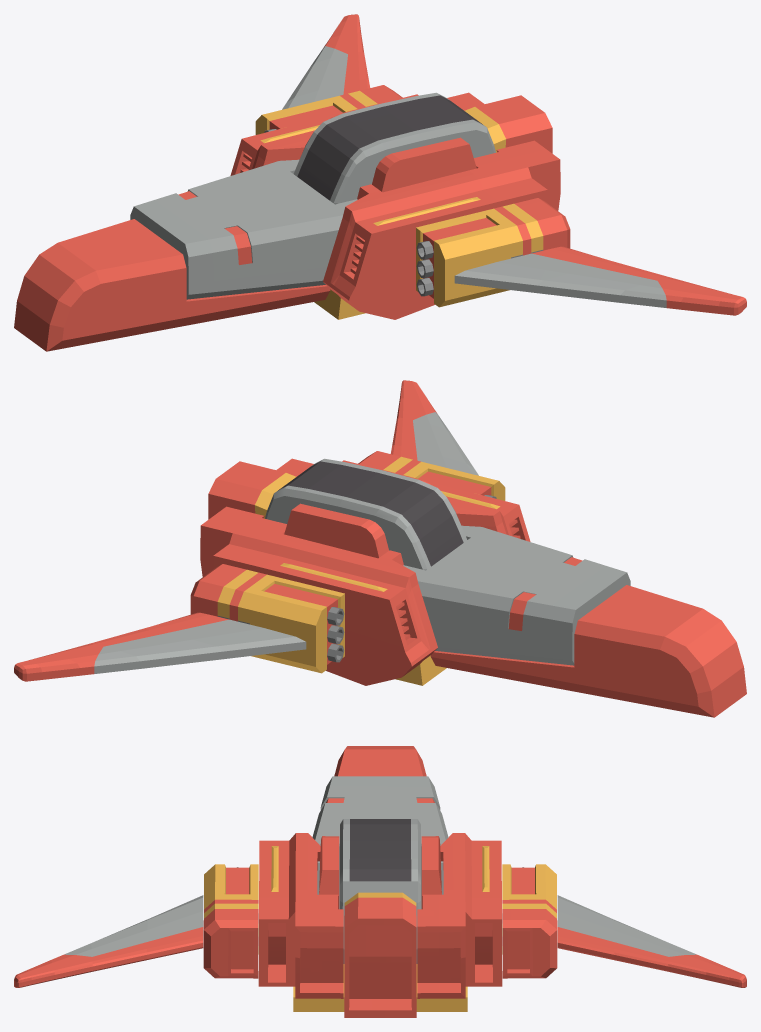
Rendered from Level_P_14.fbx.
3 renders of one model, top to bottom at view 1: azimuth 30°, elevation 25°; view 2: azimuth 150°, elevation 25°; view 3: azimuth 270°, elevation 25°, orthographic. The views are drawn at different scales.
Visible parts, largest first — view 1: Planet_6.010, Planet_6.009, Planet_6.013, Planet_6.007, Planet_6.011, Planet_6.012, Planet_6.001, Planet_6.014, Planet_6.003, Planet_6.004, Planet_6.002, Planet_6.008; view 2: Planet_6.010, Planet_6.009, Planet_6.003, Planet_6.007, Planet_6.001, Planet_6.002, Planet_6.011, Planet_6.006, Planet_6.013, Planet_6.004, Planet_6.012, Planet_6.008; view 3: Planet_6.013, Planet_6.003, Planet_6.004, Planet_6.007, Planet_6.011, Planet_6.001, Planet_6.009, Planet_6.002, Planet_6.012, Planet_6.010, Planet_6.008, Planet_6.014 (+1 smaller).
Part boxes in pixels (x1,y1,x2,y2): Planet_6.010: (14,219,330,351); Planet_6.009: (130,159,357,299); Planet_6.013: (323,140,560,319); Planet_6.007: (294,92,495,204); Planet_6.011: (454,246,746,315); Planet_6.012: (416,198,570,307); Planet_6.001: (282,14,370,109); Planet_6.014: (372,137,476,192); Planet_6.003: (230,92,484,175); Planet_6.004: (464,95,552,153); Planet_6.002: (255,85,402,134); Planet_6.008: (314,289,365,319); Planet_6.010: (430,585,746,717); Planet_6.009: (403,525,630,665); Planet_6.003: (200,506,437,685); Planet_6.007: (265,458,466,570); Planet_6.001: (14,612,306,681); Planet_6.002: (190,564,344,673); Planet_6.011: (390,380,478,475); Planet_6.006: (284,503,388,558); Planet_6.013: (276,458,530,541); Planet_6.004: (208,461,296,519); Planet_6.012: (358,451,505,500); Planet_6.008: (395,655,446,685); Planet_6.013: (258,833,343,998); Planet_6.003: (417,833,502,998); Planet_6.004: (344,892,416,1017); Planet_6.007: (340,819,420,963); Planet_6.011: (14,895,203,987); Planet_6.001: (557,895,746,987); Planet_6.009: (312,776,448,909); Planet_6.002: (502,864,557,978); Planet_6.012: (203,864,258,978); Planet_6.010: (334,746,426,776); Planet_6.008: (293,964,467,1011); Planet_6.014: (319,836,339,909).
Bounding box in the file's own units: 6.65 × 1.71 × 8.66.
